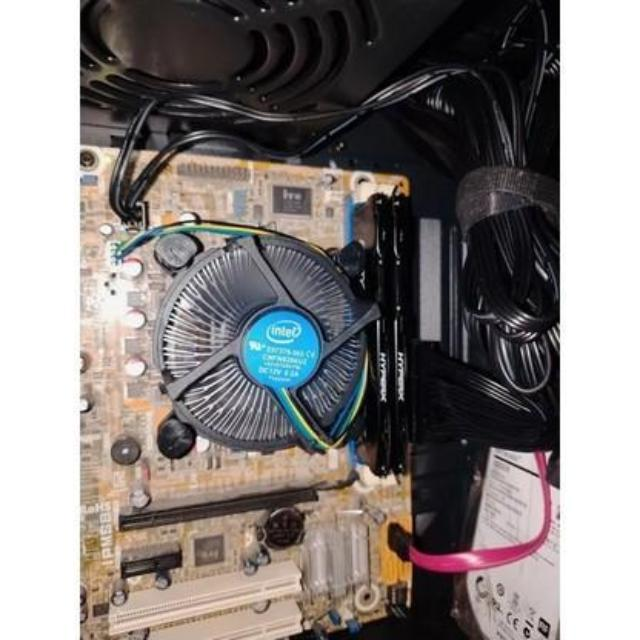CPU_Fan: (156, 234, 361, 454)
